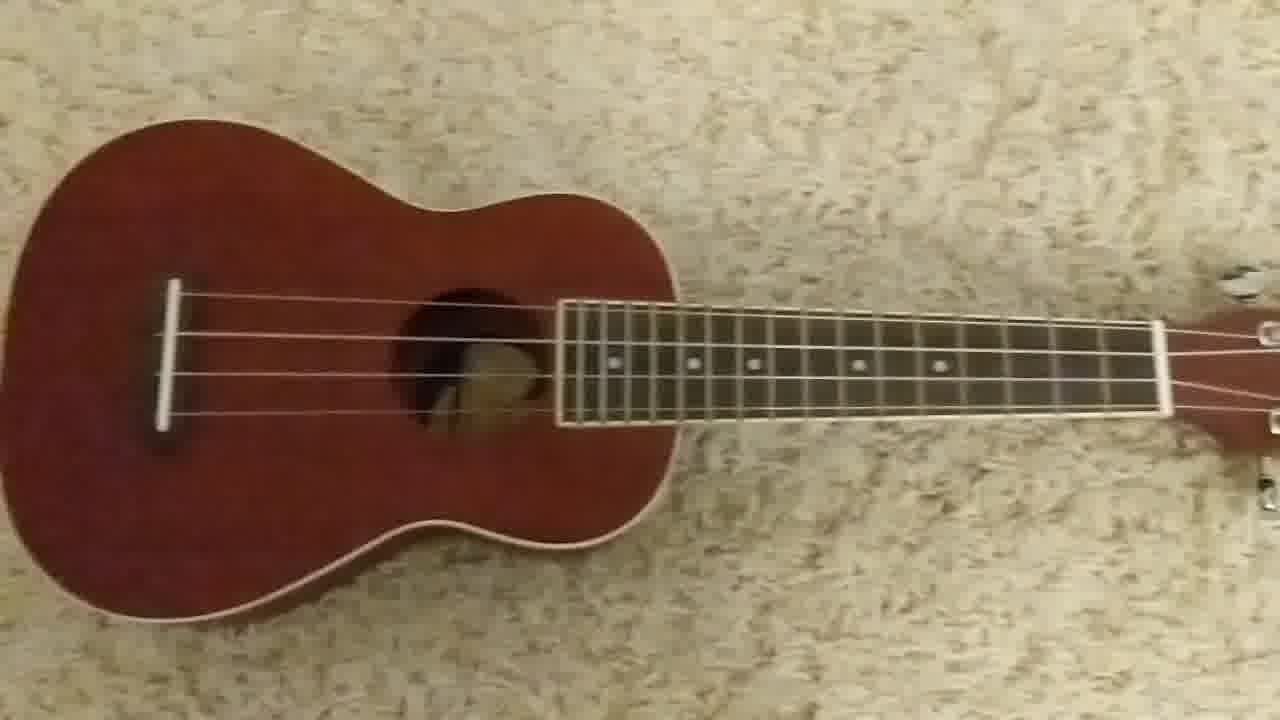Body: (1, 114, 688, 630)
Bridge: (147, 271, 196, 439)
Headstock: (1163, 253, 1280, 526)
